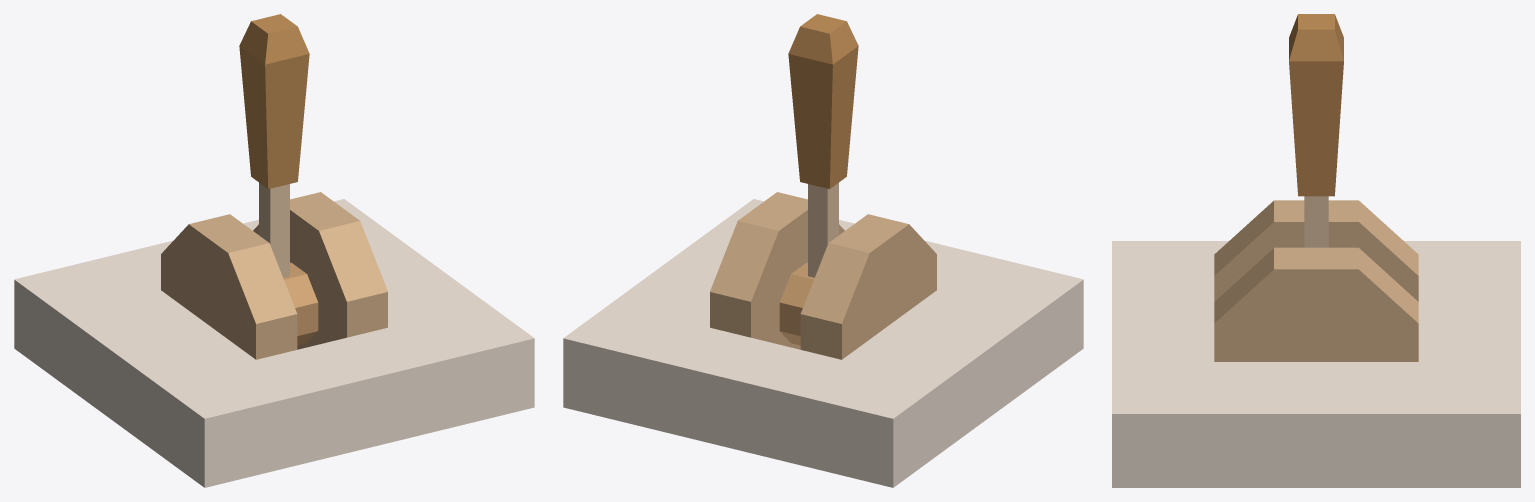
The model's file is Prop_Floor_Switch.obj.
3 renders of one model, left to right at view 1: azimuth 30°, elevation 25°; view 2: azimuth 150°, elevation 25°; view 3: azimuth 270°, elevation 25°, orthographic. The views are drawn at different scales.
Visible parts, largest first — view 1: object2, object4, object1, object3; view 2: object2, object4, object1, object3; view 3: object2, object3, object4, object1.
Boxes of the visible parts, box(x1,y1,x2,y2) form: object2: box(14, 199, 534, 487); object4: box(239, 14, 318, 345); object1: box(161, 214, 297, 359); object3: box(253, 192, 387, 349); object2: box(563, 199, 1083, 487); object4: box(779, 14, 858, 345); object1: box(800, 214, 936, 359); object3: box(710, 192, 844, 349); object2: box(1112, 241, 1520, 487); object3: box(1214, 247, 1418, 361); object4: box(1289, 14, 1343, 247); object1: box(1214, 200, 1418, 301).
Size of the model in its own units: 1 by 1.07 by 1.
